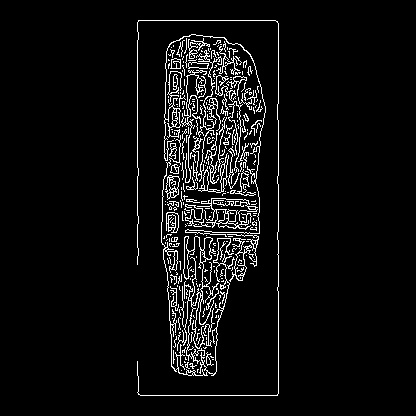buddha-standing: (29, 117, 248, 136)
